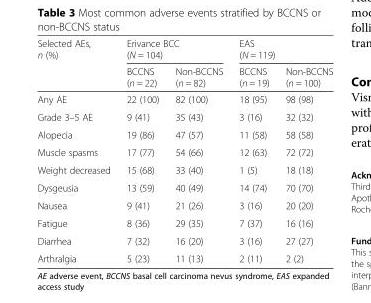table: (36, 37, 332, 263)
table column: (36, 37, 117, 263), (166, 37, 230, 263), (276, 37, 332, 263), (117, 37, 166, 263), (230, 37, 276, 263)
table column header: (36, 37, 332, 90)
table row: (36, 62, 332, 90), (36, 37, 332, 62), (36, 107, 332, 125), (36, 125, 332, 143), (36, 160, 332, 178), (36, 178, 332, 196), (36, 213, 332, 231), (36, 231, 332, 249), (36, 90, 332, 107), (36, 143, 332, 160), (36, 196, 332, 213), (36, 249, 332, 263)
table spanning cell: (36, 37, 117, 90), (117, 37, 230, 62), (230, 37, 332, 62)
